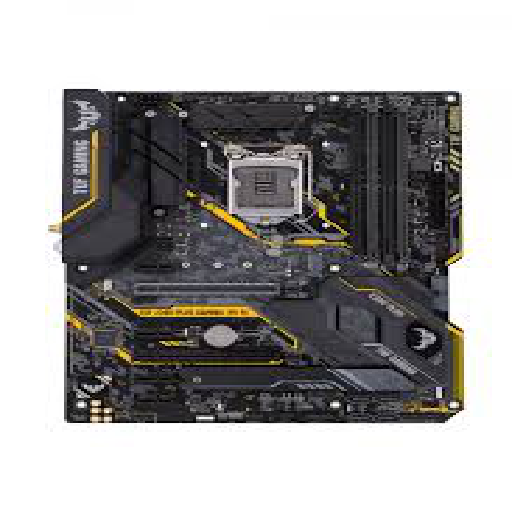CPU: (223, 142, 305, 227)
GPU: (132, 278, 310, 300), (131, 345, 300, 364)
MOTHERBOARD: (64, 91, 462, 421)
RAM: (348, 96, 411, 264)
SSD: (301, 250, 324, 278)
